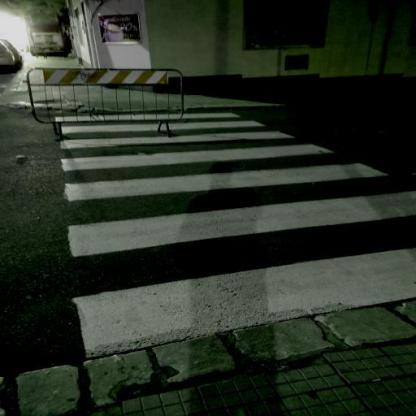crosswalk: (56, 161, 415, 259)
